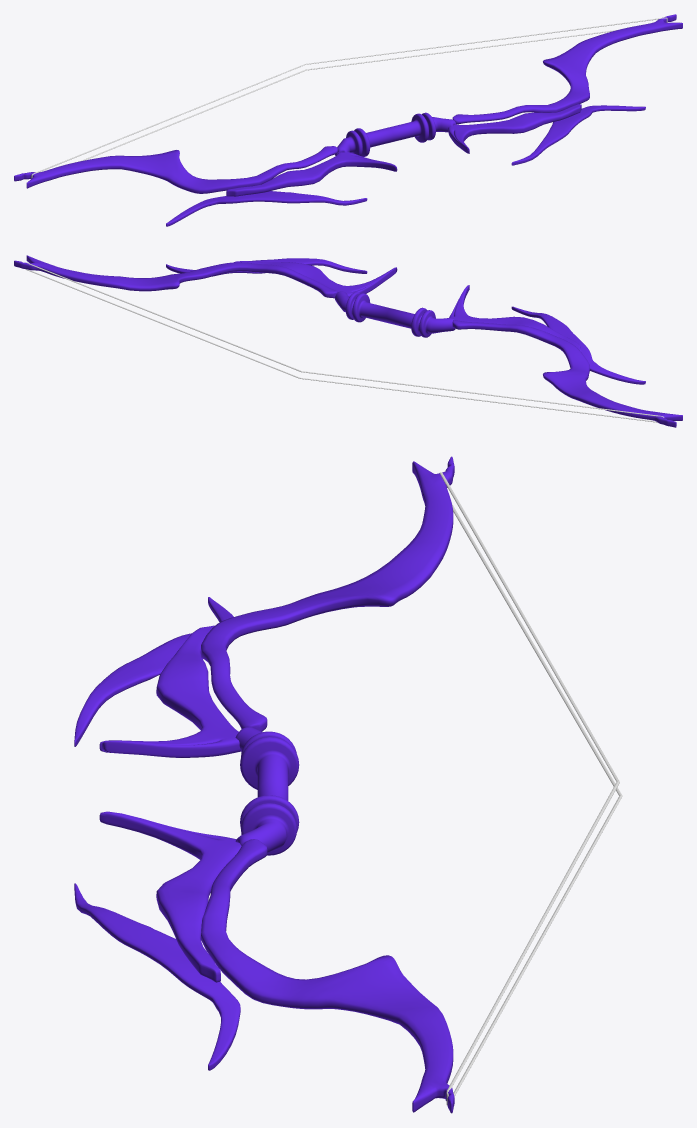
3 views of the same model, one above another, from view 1: azimuth 30°, elevation 25°; view 2: azimuth 150°, elevation 25°; view 3: azimuth 270°, elevation 25° (orthographic). The views are drawn at different scales.
Parts seen in each view (by area): view 1: 99.2, 99.secondstep; view 2: 99.2, 99.secondstep; view 3: 99.2, 99.secondstep.
Part boxes in pixels (left/top/right/bottom): 99.2: left=14, top=14, right=682, bottom=226; 99.secondstep: left=31, top=17, right=667, bottom=178; 99.2: left=14, top=255, right=682, bottom=427; 99.secondstep: left=25, top=262, right=664, bottom=422; 99.2: left=74, top=456, right=454, bottom=1113; 99.secondstep: left=439, top=472, right=622, bottom=1105.
Bounding box in the file's own units: 87.66 × 4.49 × 31.42.
